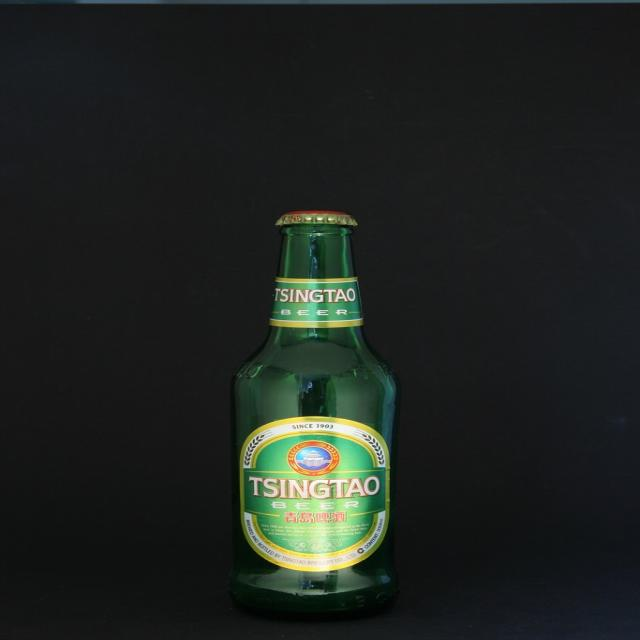tsingtao: (240, 417, 393, 574)
